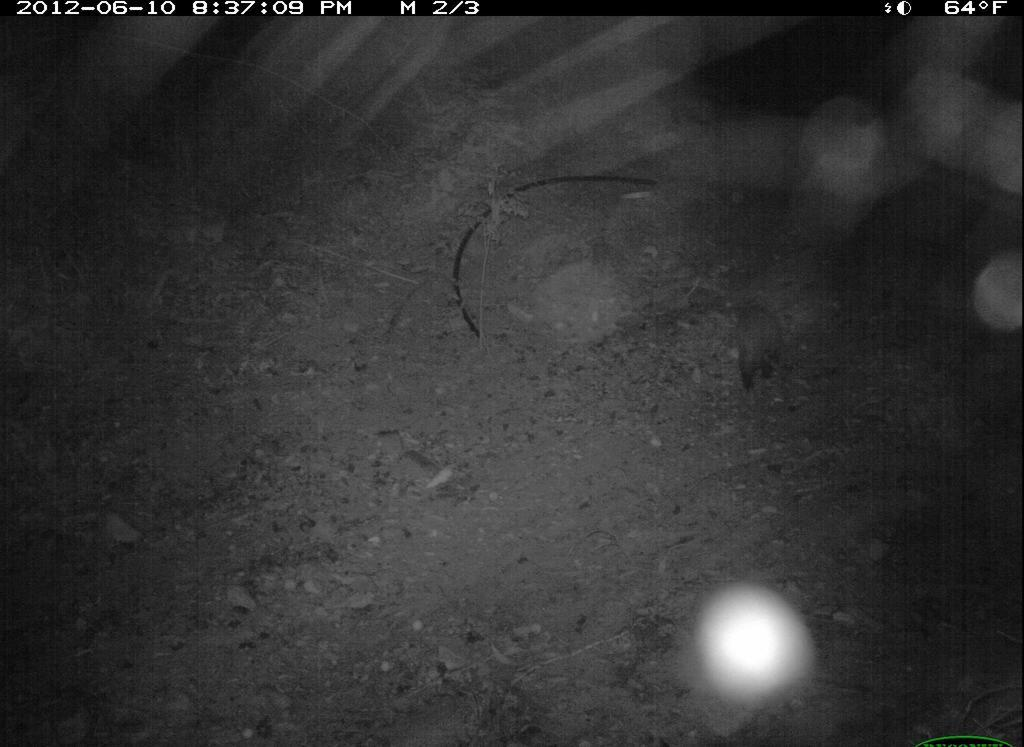opossum: (726, 273, 798, 404)
